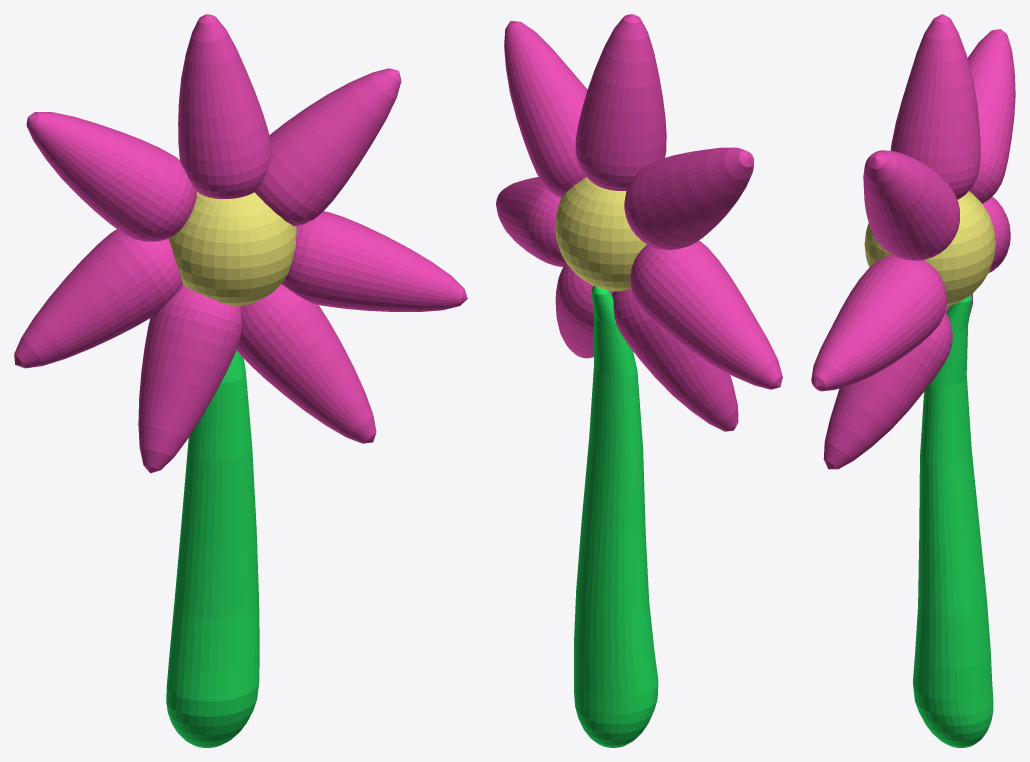
Rendered from flower.glb.
3 views of the same model, side by side, from view 1: azimuth 30°, elevation 25°; view 2: azimuth 150°, elevation 25°; view 3: azimuth 270°, elevation 25° (orthographic). The views are drawn at different scales.
Parts seen in each view (by area): view 1: Sphere, Sphere.002, Sphere.008, Sphere.006, Sphere.005, Sphere.004, Sphere.003, Sphere.007, Sphere.001; view 2: Sphere, Sphere.006, Sphere.008, Sphere.002, Sphere.003, Sphere.001, Sphere.005, Sphere.004, Sphere.007; view 3: Sphere, Sphere.004, Sphere.008, Sphere.003, Sphere.007, Sphere.002, Sphere.001, Sphere.006.
Boxes of the visible parts, x1,y1,x2,y2 form: Sphere: (166,350,259,747); Sphere.002: (26,112,196,241); Sphere.008: (178,14,271,198); Sphere.006: (14,229,182,368); Sphere.005: (138,285,241,473); Sphere.004: (282,211,467,311); Sphere.003: (254,68,401,226); Sphere.007: (236,284,376,443); Sphere.001: (168,191,296,306); Sphere: (574,285,658,747); Sphere.006: (630,240,782,389); Sphere.008: (575,14,666,190); Sphere.002: (624,147,753,249); Sphere.003: (504,21,587,198); Sphere.001: (555,177,646,291); Sphere.005: (612,288,738,431); Sphere.004: (496,177,567,266); Sphere.007: (555,265,612,358); Sphere: (912,295,993,747); Sphere.004: (811,255,946,391); Sphere.008: (890,14,980,199); Sphere.003: (863,150,959,260); Sphere.007: (823,312,952,469); Sphere.002: (967,29,1015,203); Sphere.001: (864,191,995,306); Sphere.006: (982,196,1010,273).
Bounding box in the file's own units: 3.63 × 6.98 × 1.78.
